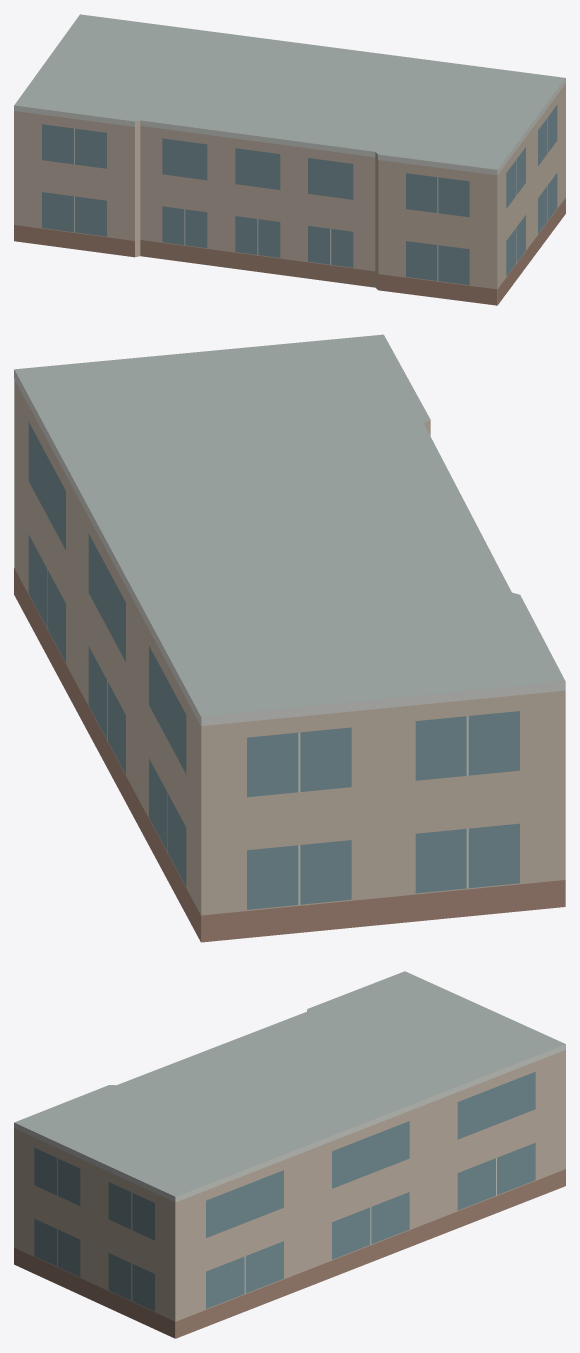
The model's file is survey-upis-32712160.glb.
3 renders of one model, top to bottom at view 1: azimuth 30°, elevation 25°; view 2: azimuth 150°, elevation 25°; view 3: azimuth 270°, elevation 25°, orthographic. The views are drawn at different scales.
Visible parts, largest first — view 1: survey-upis-32712160.tmp; view 2: survey-upis-32712160.tmp; view 3: survey-upis-32712160.tmp.
Part boxes in pixels (x1,y1,x2,y2): survey-upis-32712160.tmp: (14,14,565,305); survey-upis-32712160.tmp: (14,334,565,942); survey-upis-32712160.tmp: (14,971,565,1338).
Bounding box in the file's own units: 20.8 × 6.1 × 21.5.
